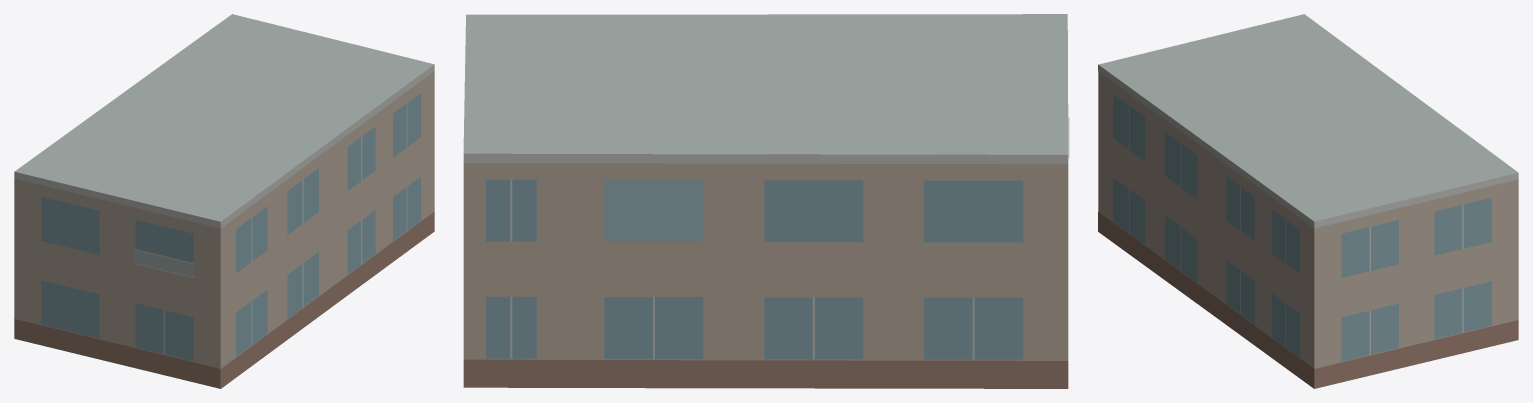
The model's file is survey-upis-32695350.glb.
3 renders of one model, left to right at view 1: azimuth 30°, elevation 25°; view 2: azimuth 150°, elevation 25°; view 3: azimuth 270°, elevation 25°, orthographic. The views are drawn at different scales.
Parts seen in each view (by area): view 1: survey-upis-32695350.tmp; view 2: survey-upis-32695350.tmp; view 3: survey-upis-32695350.tmp.
Boxes of the visible parts, box(x1,y1,x2,y2) form: survey-upis-32695350.tmp: box(14, 14, 434, 388); survey-upis-32695350.tmp: box(463, 14, 1069, 388); survey-upis-32695350.tmp: box(1098, 14, 1518, 388).
Size of the model in its own units: 16.26 by 6.1 by 13.91.
